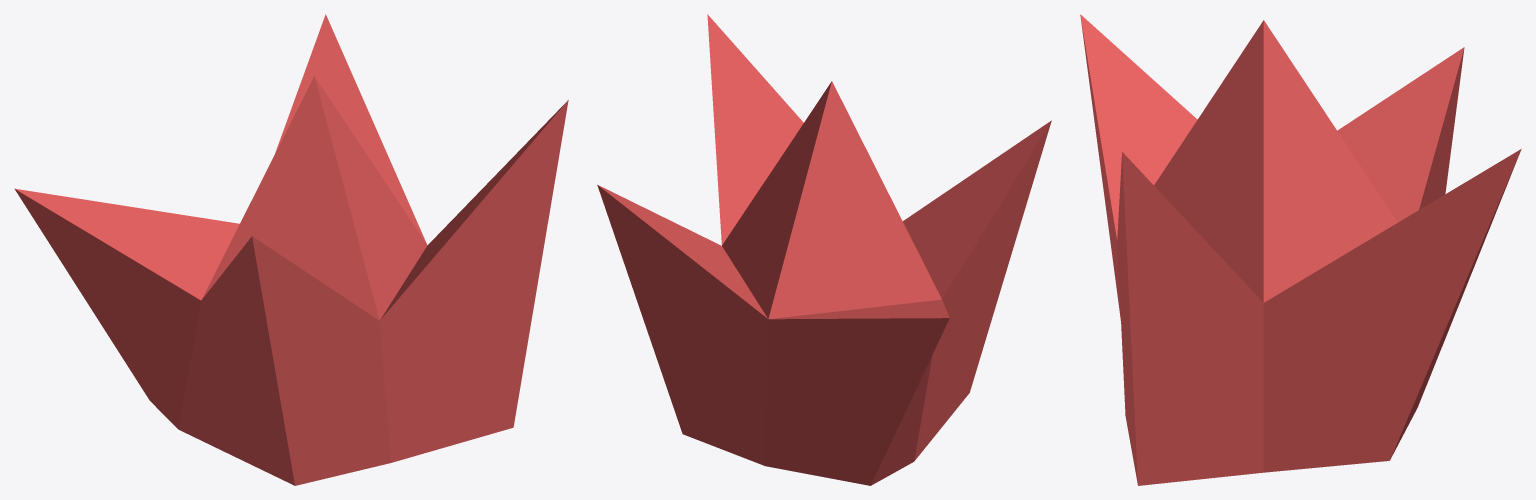
Rendered from mesh_spikes_COLLISION.fbx.
3 views of the same model, side by side, from view 1: azimuth 30°, elevation 25°; view 2: azimuth 150°, elevation 25°; view 3: azimuth 270°, elevation 25° (orthographic). The views are drawn at different scales.
Parts seen in each view (by area): view 1: mesh_spikes_COLLISION; view 2: mesh_spikes_COLLISION; view 3: mesh_spikes_COLLISION.
Part boxes in pixels (<box>): mesh_spikes_COLLISION: <box>14,14,568,485</box>; mesh_spikes_COLLISION: <box>597,14,1051,485</box>; mesh_spikes_COLLISION: <box>1080,14,1521,485</box>.
Size of the model in its own units: 1.43 by 1.18 by 1.21.
